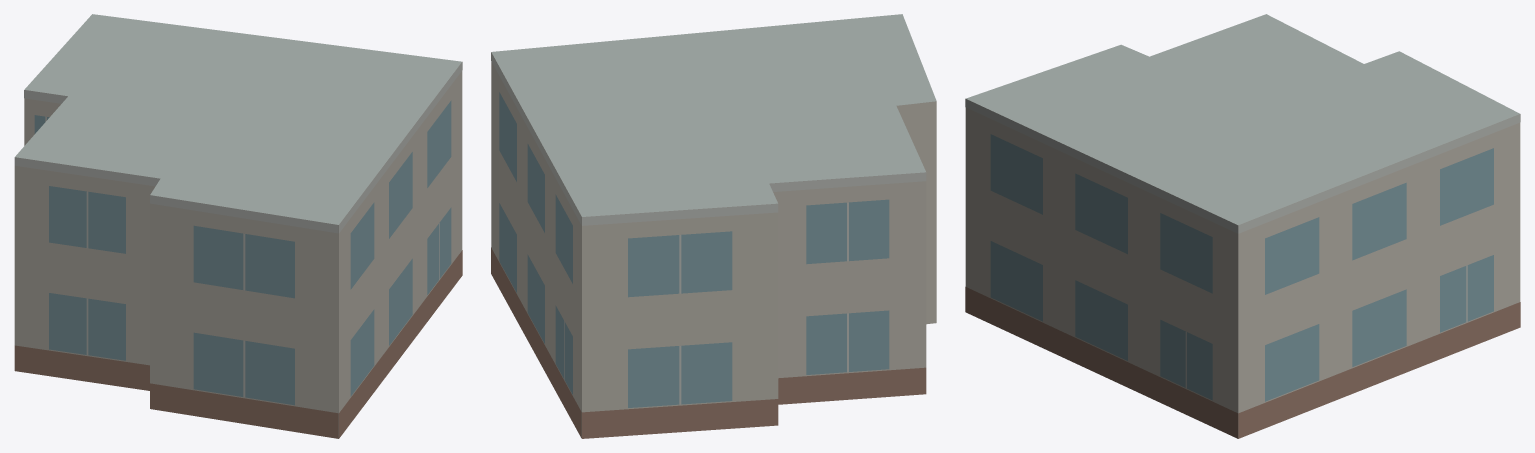
The model's file is survey-upis-32793663.glb.
3 views of the same model, side by side, from view 1: azimuth 30°, elevation 25°; view 2: azimuth 150°, elevation 25°; view 3: azimuth 270°, elevation 25° (orthographic). The views are drawn at different scales.
Parts seen in each view (by area): view 1: survey-upis-32793663.tmp; view 2: survey-upis-32793663.tmp; view 3: survey-upis-32793663.tmp.
Part boxes in pixels (<box>): survey-upis-32793663.tmp: <box>14,14,462,438</box>; survey-upis-32793663.tmp: <box>491,14,936,438</box>; survey-upis-32793663.tmp: <box>965,14,1520,438</box>.
Bounding box in the file's own units: 12.95 × 6.1 × 14.37.
